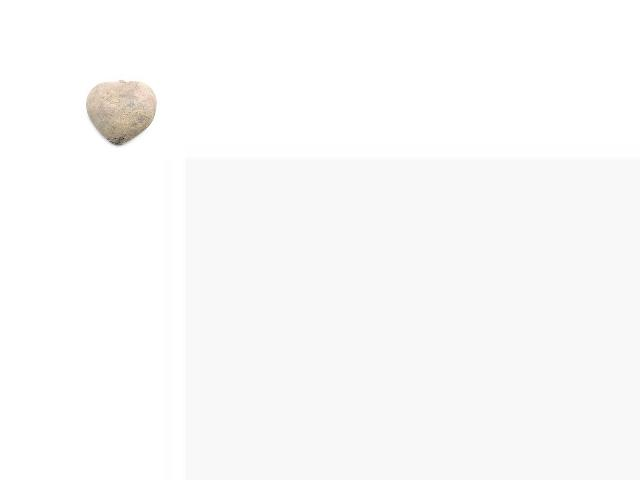beet: (86, 81, 157, 145)
